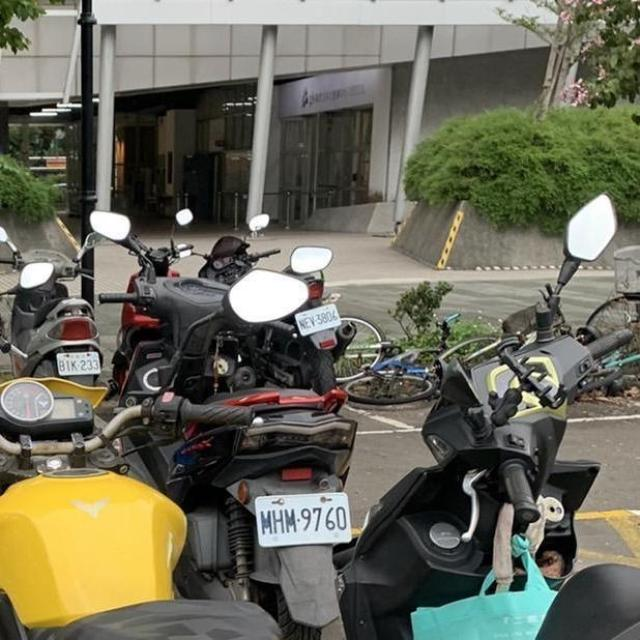W: (245, 485, 362, 552), (289, 300, 345, 339), (46, 345, 106, 381)
